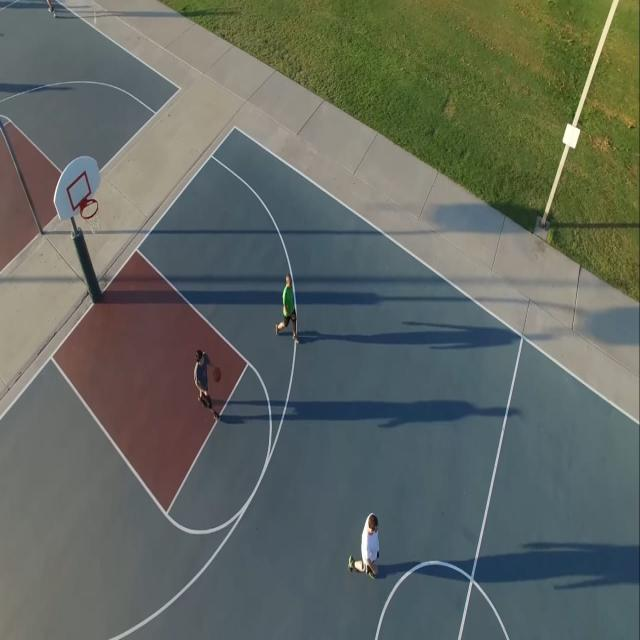humans: (347, 506, 383, 583), (276, 268, 300, 349), (193, 346, 215, 426)
